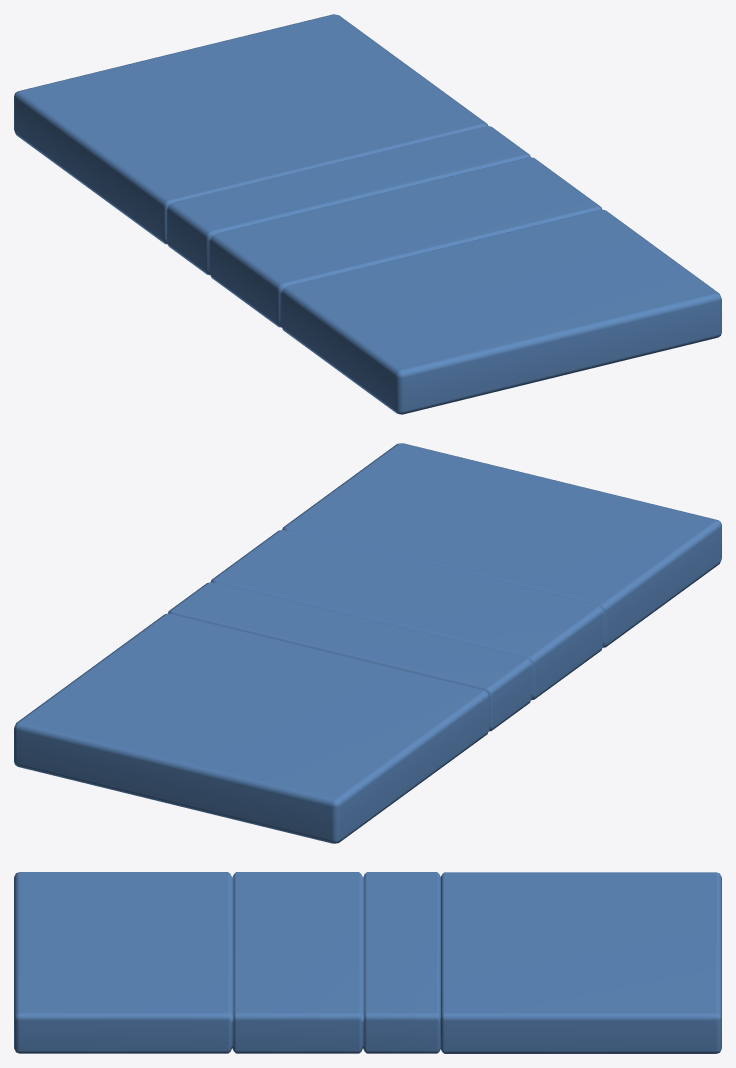
The model's file is SM_HospitalBed_02q.FBX.
3 views of the same model, one above another, from view 1: azimuth 30°, elevation 25°; view 2: azimuth 150°, elevation 25°; view 3: azimuth 270°, elevation 25° (orthographic). The views are drawn at different scales.
Visible parts, largest first — view 1: SM_HospitalBed_02q_LOD0; view 2: SM_HospitalBed_02q_LOD0; view 3: SM_HospitalBed_02q_LOD0.
Part boxes in pixels (bbox=[...]): SM_HospitalBed_02q_LOD0: bbox=[14, 14, 721, 414]; SM_HospitalBed_02q_LOD0: bbox=[14, 443, 721, 843]; SM_HospitalBed_02q_LOD0: bbox=[14, 872, 721, 1053].
Size of what is drawn, in the model's own units: 94.34 by 12.46 by 194.
